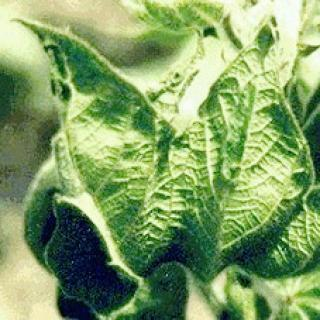curl: (53, 32, 317, 282)
